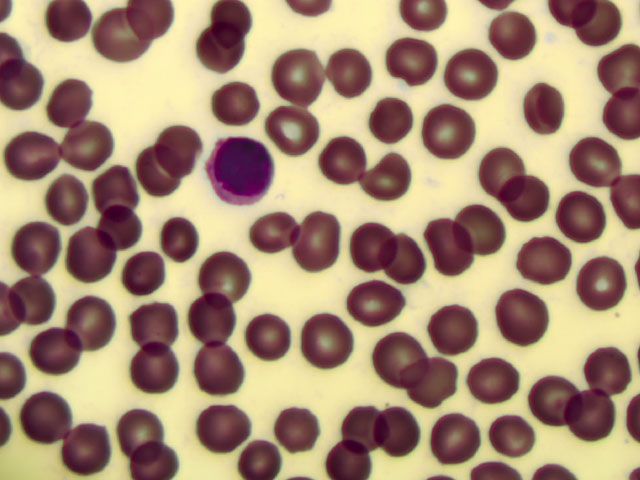RBC: (91, 10, 152, 65), (41, 74, 102, 129), (6, 127, 67, 182), (51, 116, 112, 171), (41, 172, 102, 227), (11, 218, 72, 273), (3, 267, 64, 322), (16, 330, 77, 385), (55, 299, 116, 354), (121, 300, 182, 355), (122, 346, 183, 401), (114, 253, 175, 308), (141, 215, 202, 270), (96, 199, 157, 254), (89, 159, 150, 214), (132, 153, 193, 208), (145, 120, 206, 175), (199, 72, 260, 127), (197, 23, 258, 78), (273, 50, 334, 105), (269, 97, 330, 152), (318, 45, 379, 100), (311, 130, 372, 185), (359, 145, 420, 200), (359, 94, 420, 149), (384, 31, 445, 86), (441, 45, 502, 100), (416, 106, 477, 161), (471, 146, 532, 201), (510, 84, 571, 139), (482, 12, 543, 67), (492, 169, 553, 224), (454, 200, 515, 255), (422, 220, 483, 275), (373, 235, 434, 290), (344, 222, 405, 277), (293, 217, 354, 272), (249, 207, 310, 262), (202, 249, 263, 304), (187, 289, 248, 344), (187, 341, 248, 396), (237, 311, 298, 366), (196, 396, 257, 451), (115, 405, 176, 460), (61, 423, 122, 478), (19, 386, 80, 441), (266, 401, 327, 456), (303, 316, 364, 371), (339, 282, 400, 337), (375, 334, 436, 389), (401, 355, 462, 410), (377, 401, 438, 456), (332, 401, 393, 456), (316, 425, 377, 480), (418, 411, 479, 466), (465, 350, 526, 405), (429, 301, 490, 356), (485, 291, 546, 346), (521, 234, 582, 289), (551, 190, 612, 245), (567, 135, 628, 190), (579, 3, 640, 58), (579, 335, 640, 390), (555, 390, 616, 445), (523, 375, 584, 430), (481, 404, 542, 459), (39, 1, 100, 55), (202, 1, 263, 55)
WBC: (206, 135, 272, 210)
